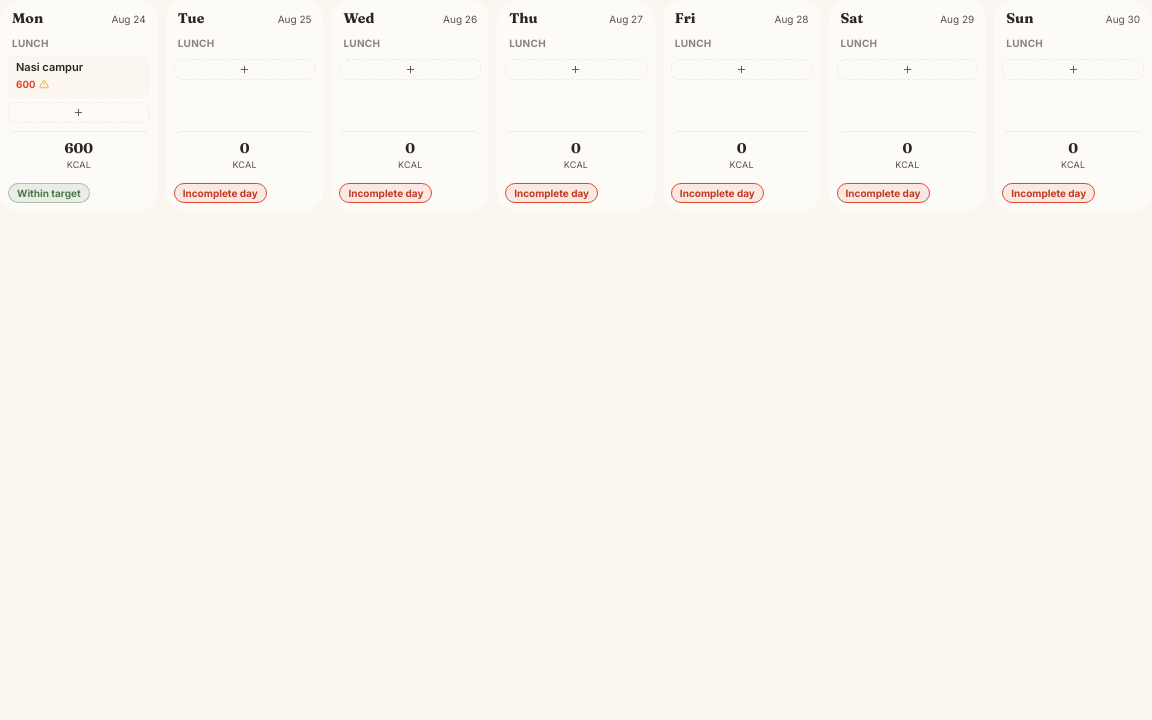
PlanWeekGrid daily summary › selects a day and opens and closes its responsive detail view
The width and height of the screenshot is (1152, 720).
Click the button with aria-label "view summary for monday": click(79, 167) [8,131,150,203]
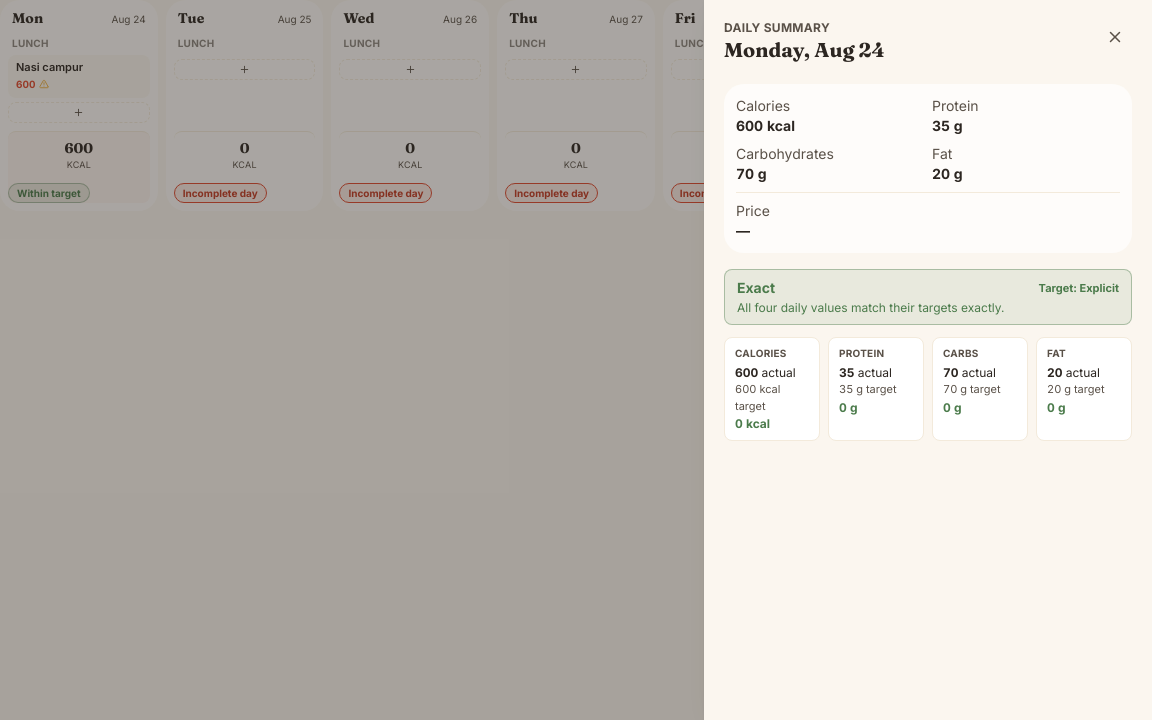
Expected: the dialog "Monday" shows "Calories", [736,97,790,114]
Expected: the dialog "Monday" shows "Protein", [932,97,979,114]
Expected: the dialog "Monday" shows "Carbohydrates", [736,145,834,162]
Click the button named "Close daily summary": click(1115, 37) [1098,20,1132,54]
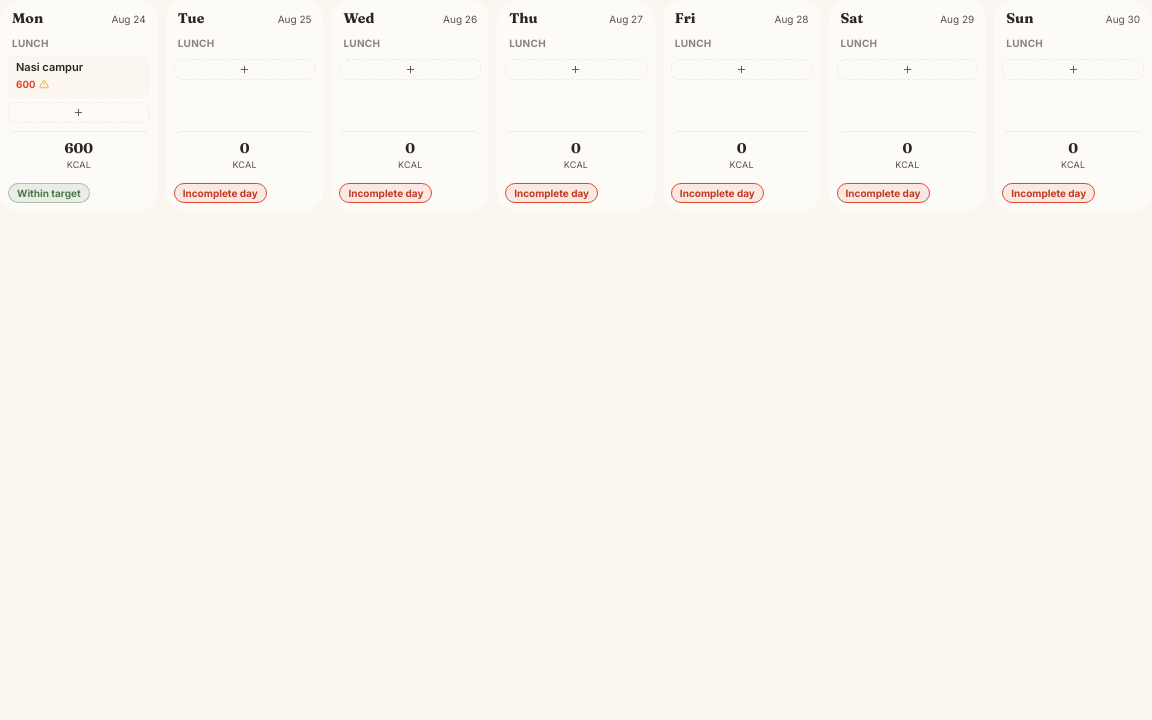
Expected: the dialog is gone
